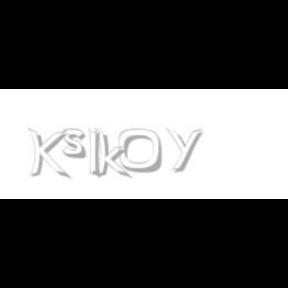K: (28, 128, 68, 180)
O: (118, 128, 163, 174)
k: (94, 128, 132, 180)
l: (88, 128, 104, 180)
s: (62, 128, 90, 160)
y: (166, 128, 206, 172)
